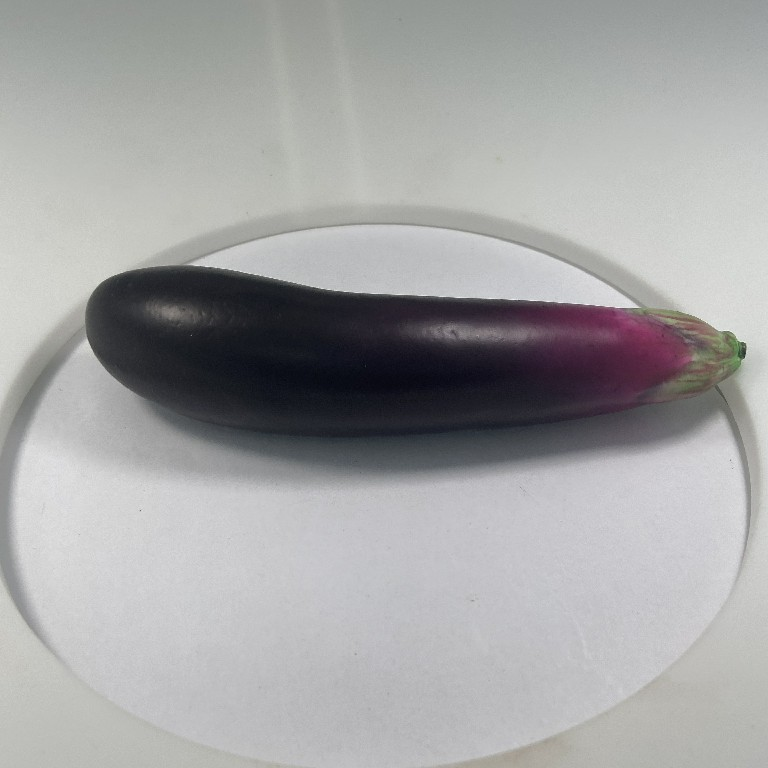fruit_eggplant: (79, 262, 768, 442)
